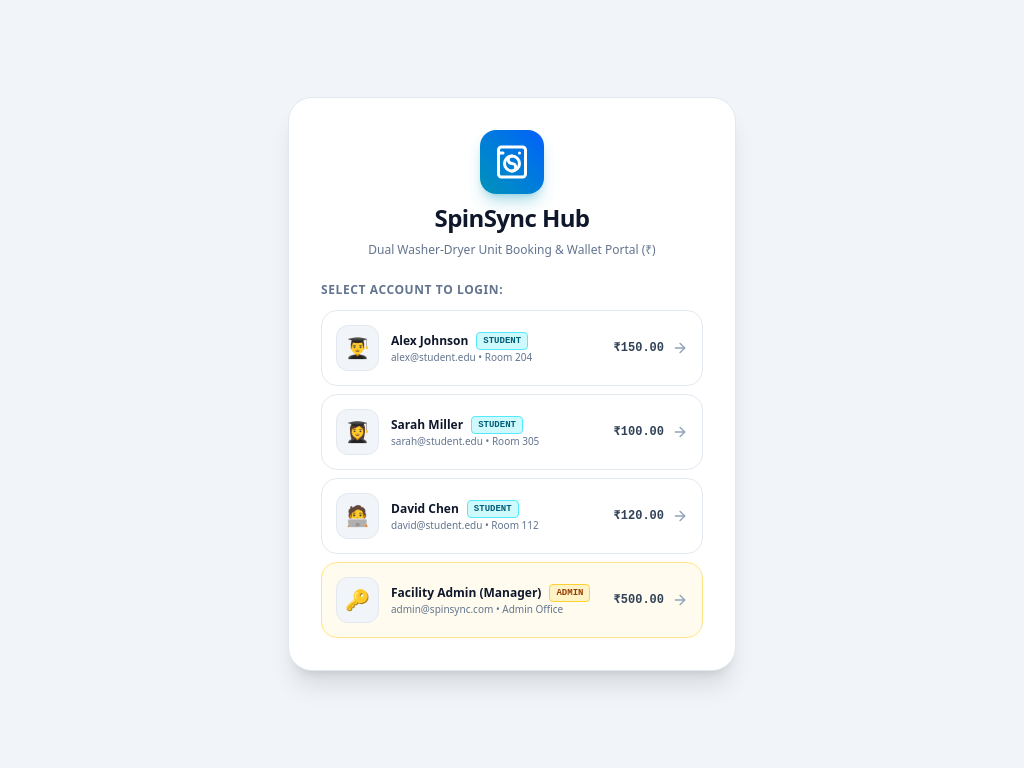
Test: SpinSync Application Test Suite (Vitest + React Testing Library) › allows a student without active wash to request a slot
// Login as Alex Johnson (No active wash initially)
Click the text "Alex Johnson" at (430, 340), box x1=391 y1=332 x2=468 y2=348
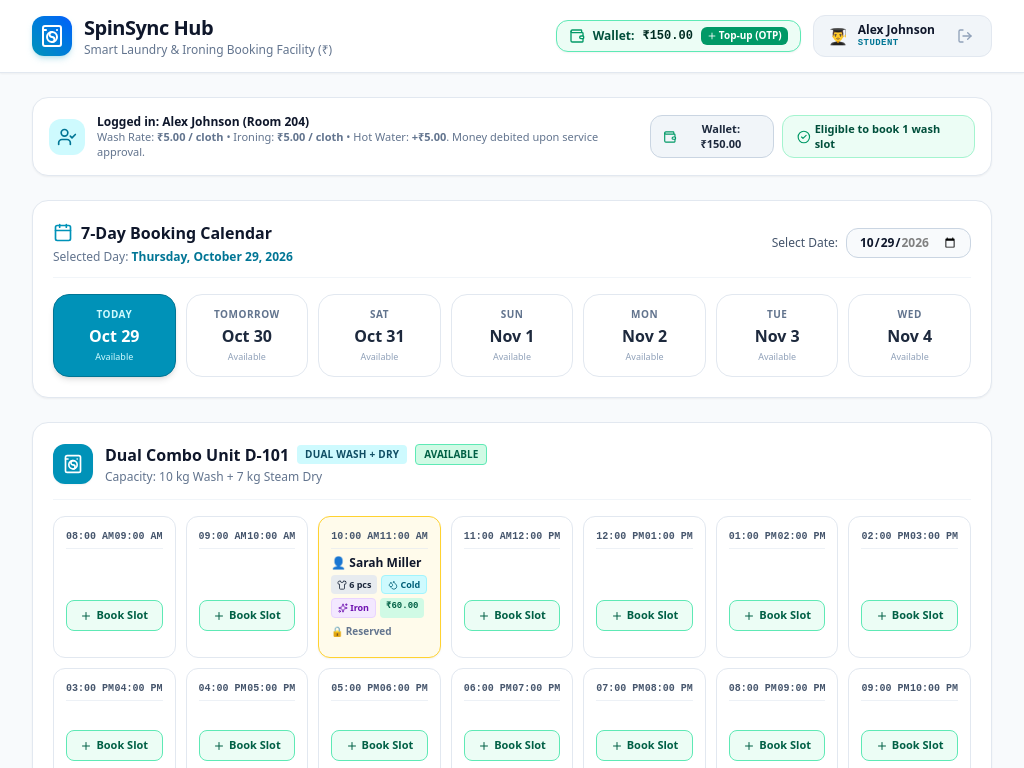
Expected: the text "Logged in: Alex Johnson (Room 204)" is shown, x1=97 y1=113 x2=309 y2=130
Expected: the 1st button "Book Slot" is shown
Click the 1st button "Book Slot" at (114, 616), box x1=66 y1=600 x2=163 y2=631
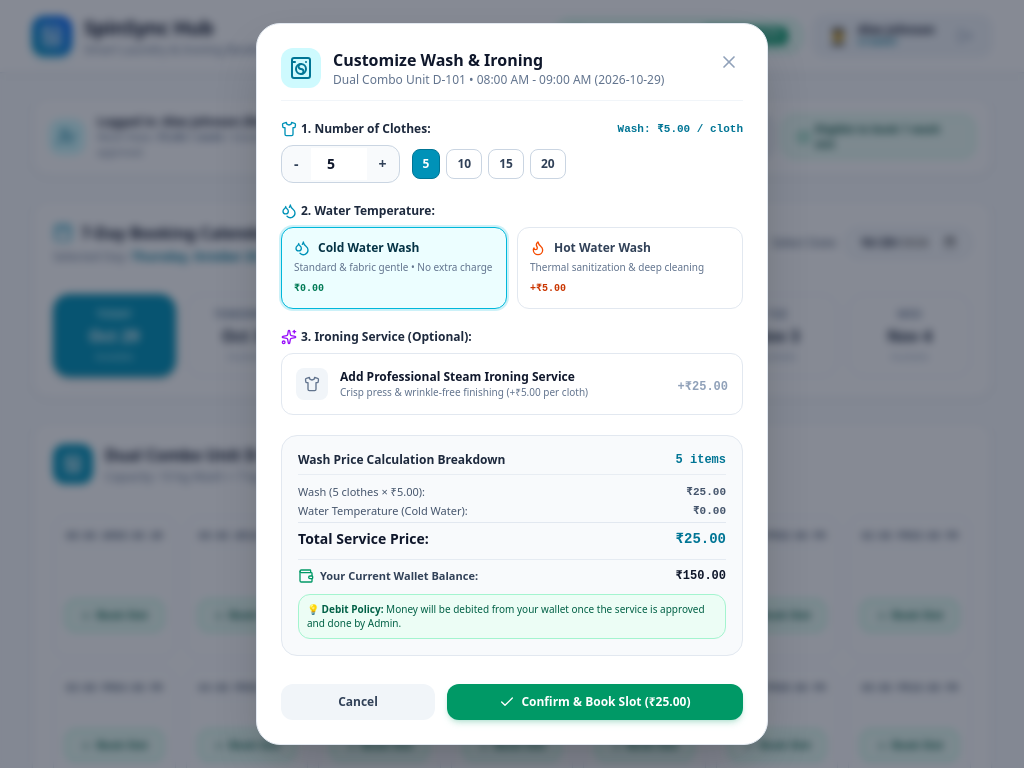
Expected: the heading "Customize Wash & Ironing" is shown, x1=333 y1=49 x2=543 y2=71
// Click confirm in the modal
Click the button "Confirm & Book Slot (₹25.00)" at (595, 702), box x1=447 y1=684 x2=743 y2=720
(page scrolled)
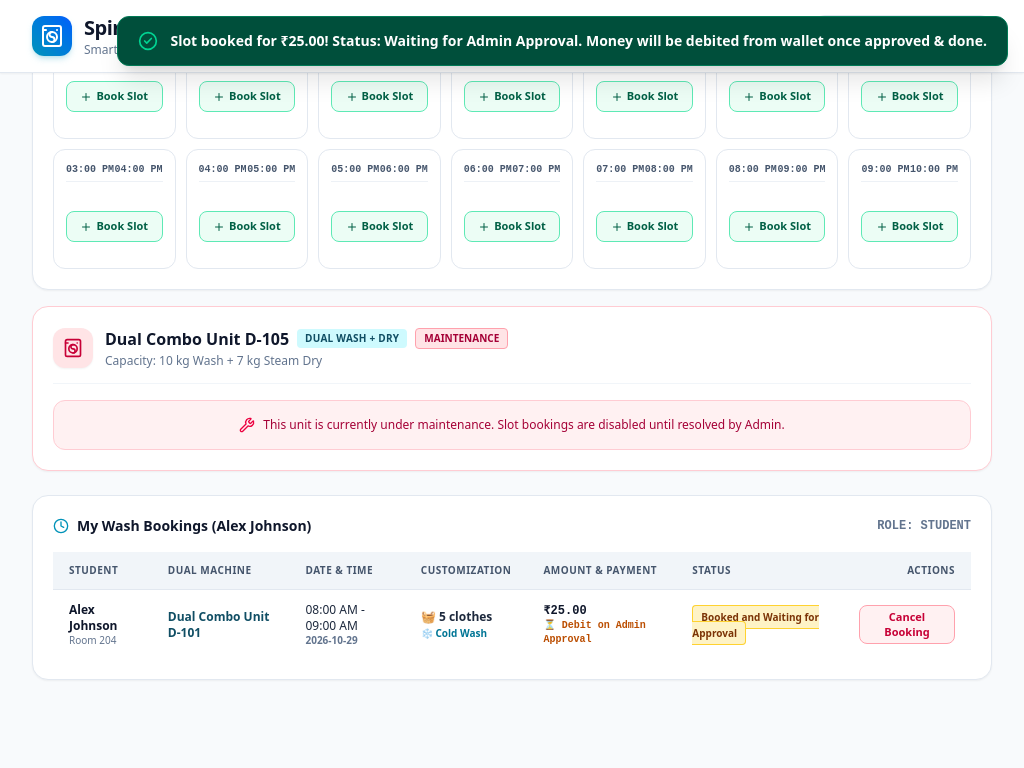
Expected: the text "Booked and Waiting for Approval" is shown, x1=692 y1=605 x2=819 y2=645
